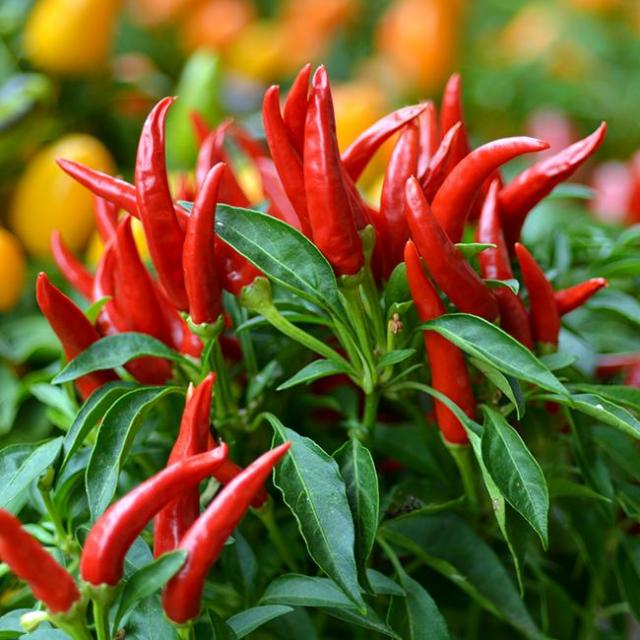red chili: (162, 442, 284, 623), (393, 244, 488, 449), (394, 180, 522, 328), (147, 368, 226, 569), (294, 79, 368, 273), (178, 165, 235, 330), (508, 243, 566, 363)
